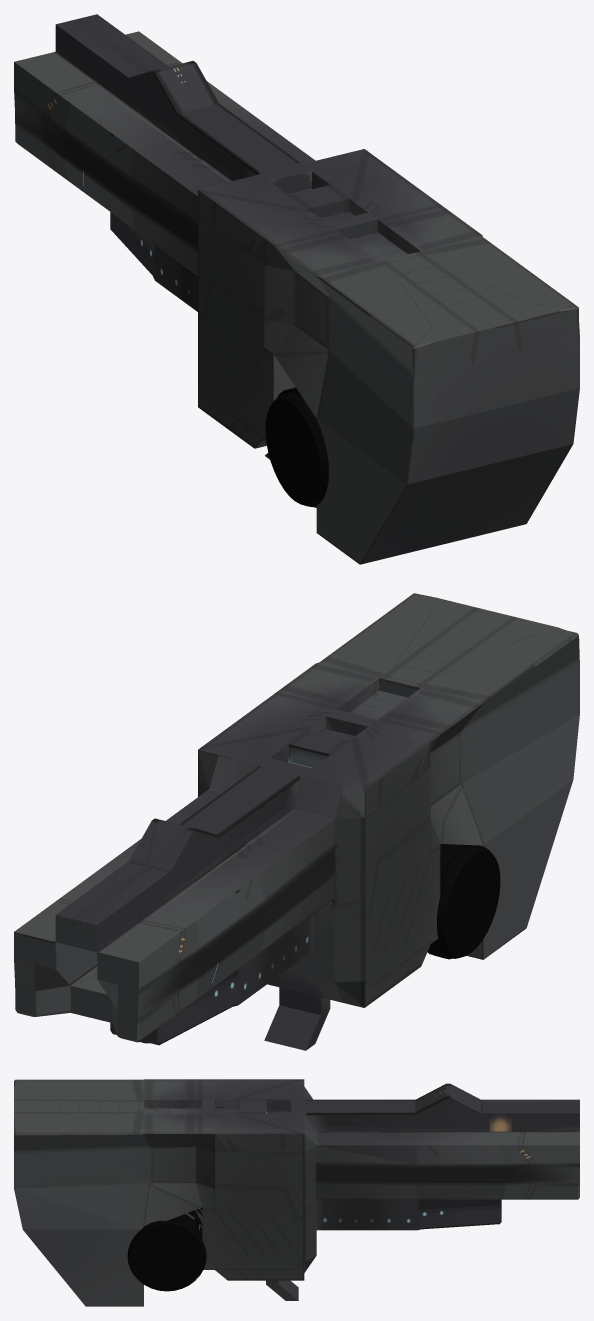
File: Gun.fbx
3 renders of one model, top to bottom at view 1: azimuth 30°, elevation 25°; view 2: azimuth 150°, elevation 25°; view 3: azimuth 270°, elevation 25°, orthographic. The views are drawn at different scales.
Parts seen in each view (by area): view 1: Cube, Cylinder; view 2: Cube, Cylinder; view 3: Cube, Cylinder.
Part boxes in pixels (x1,y1,x2,y2): Cube: (14, 14, 579, 564); Cylinder: (265, 387, 328, 507); Cube: (14, 593, 579, 1050); Cylinder: (427, 844, 500, 959); Cube: (14, 1079, 579, 1306); Cylinder: (127, 1207, 206, 1291).
Size of the model in its own units: 175 by 278 by 700.
